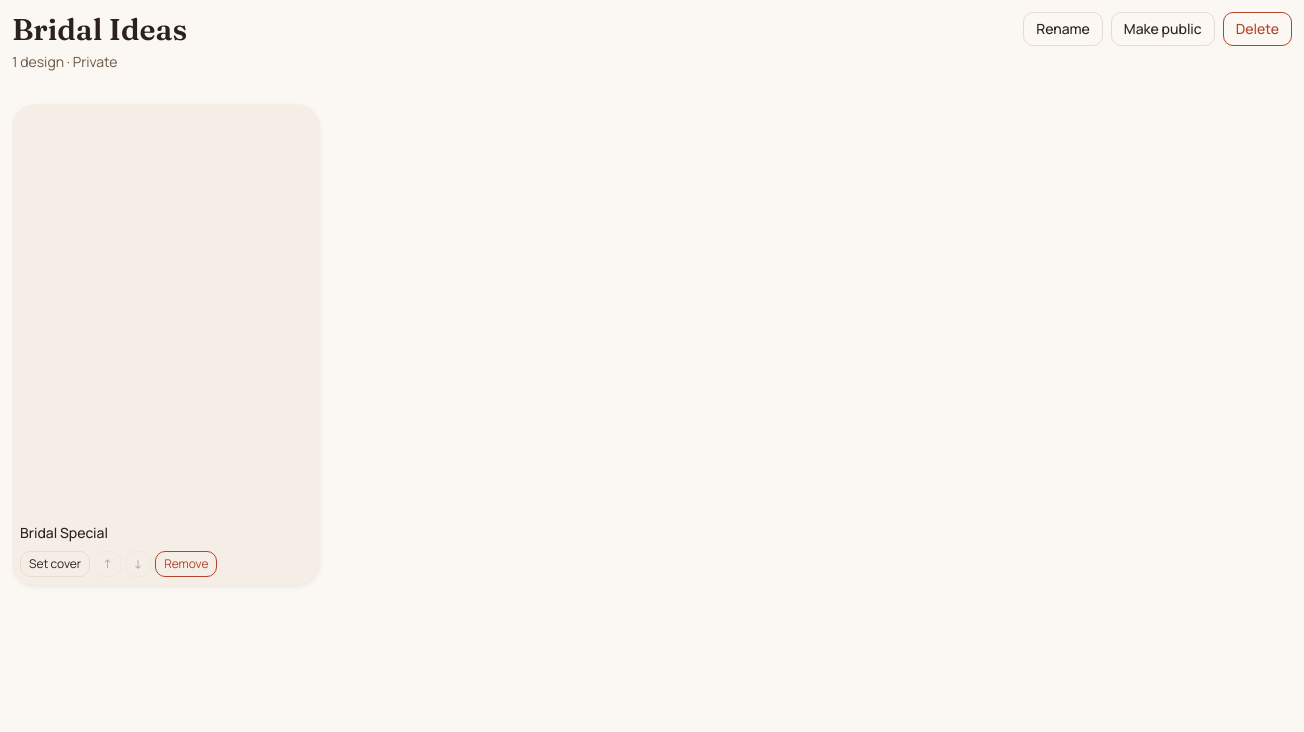
Test case: CollectionDetailView › toggles privacy
The image size is (1304, 732).
Check: the heading "Bridal Ideas" is shown, box [12, 12, 187, 48]
Click the button "Make public".
click(1163, 29)  # box [1111, 12, 1215, 46]
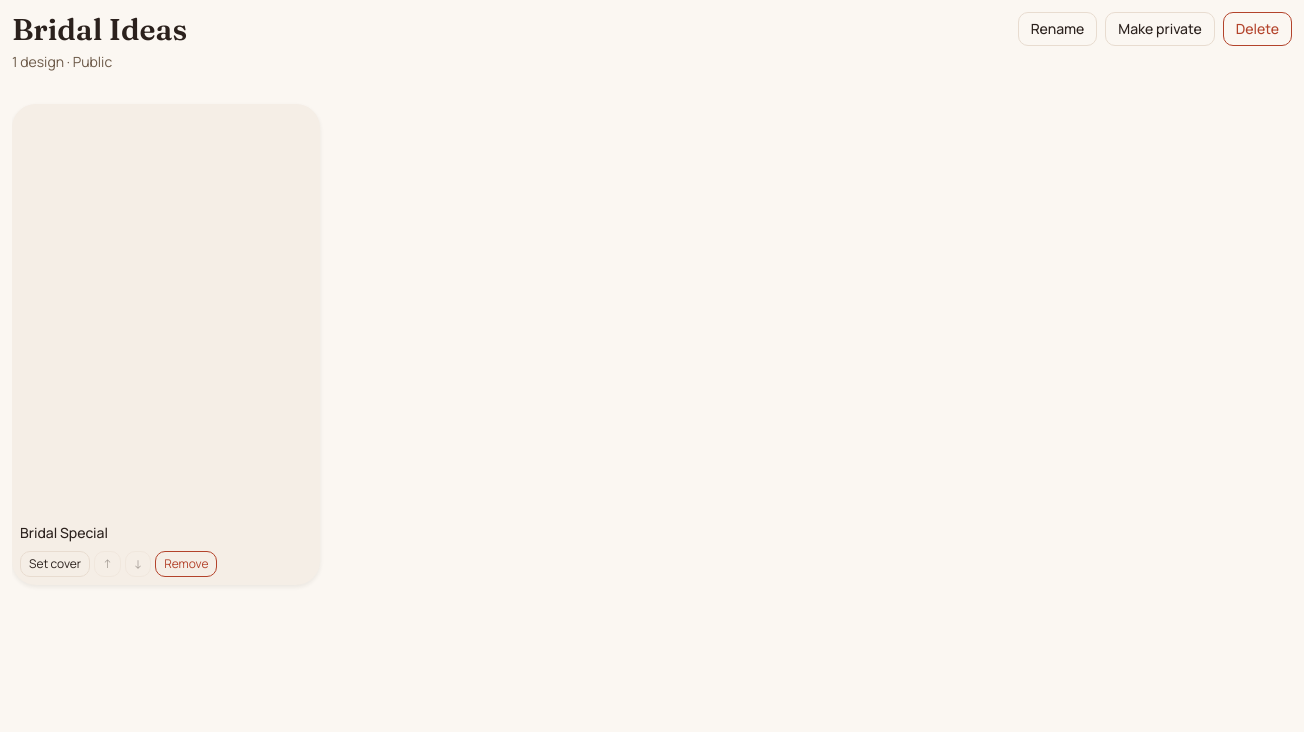
Check: the text "1 design · Public" is shown, box [12, 52, 112, 71]
